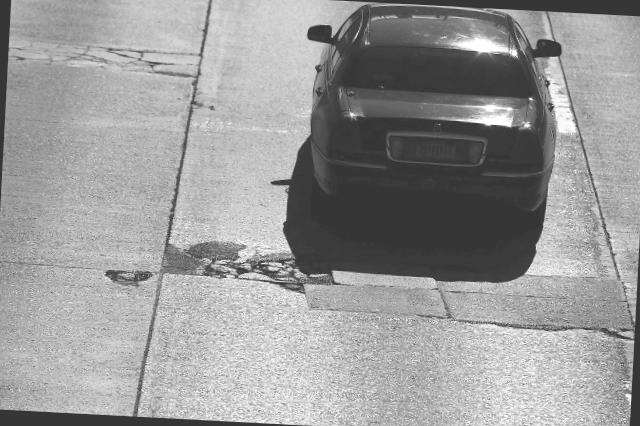Pothole: (86, 220, 343, 329)
